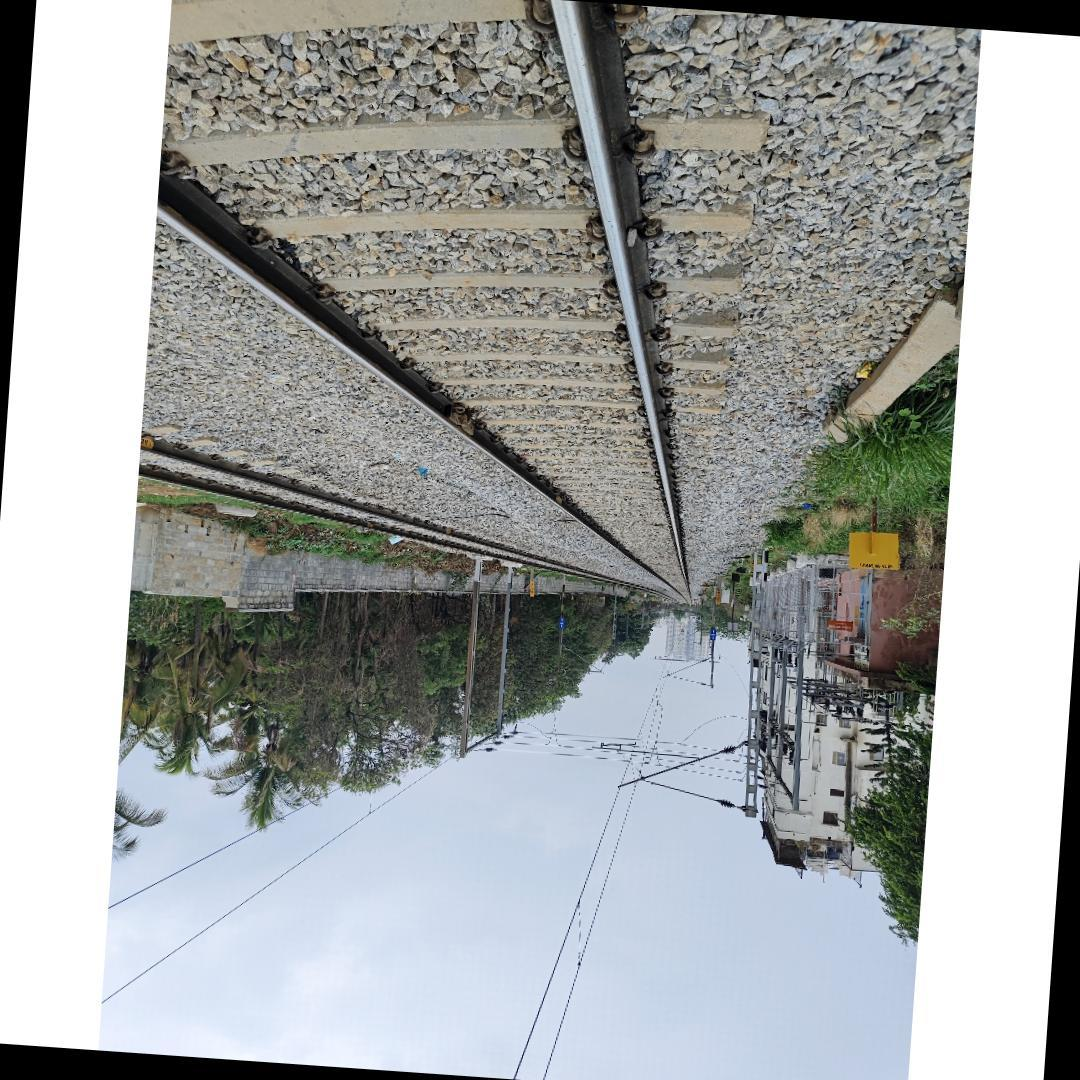track: (155, 0, 693, 604)
